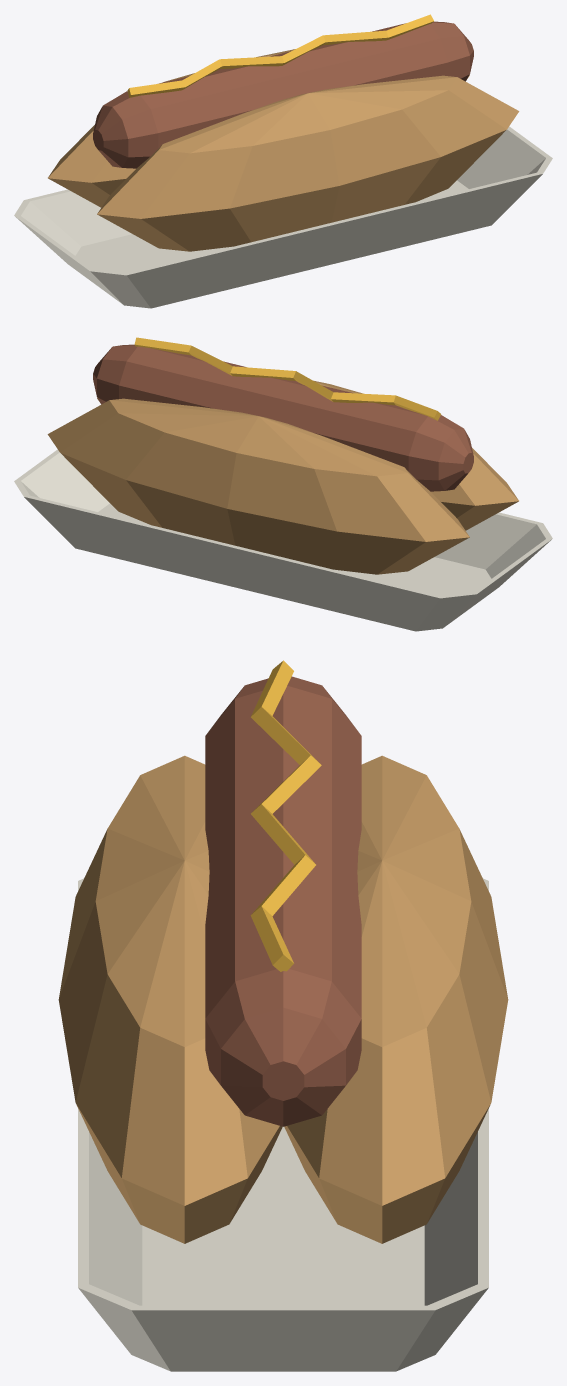
The model's file is b16_hotdog_in_paper_boat.glb.
3 renders of one model, top to bottom at view 1: azimuth 30°, elevation 25°; view 2: azimuth 150°, elevation 25°; view 3: azimuth 270°, elevation 25°, orthographic. The views are drawn at different scales.
Parts seen in each view (by area): view 1: b16_hotdog_in_paper_boat; view 2: b16_hotdog_in_paper_boat; view 3: b16_hotdog_in_paper_boat.
Boxes of the visible parts, left/top/right/bottom form: b16_hotdog_in_paper_boat: left=14, top=14, right=552, bottom=308; b16_hotdog_in_paper_boat: left=14, top=337, right=552, bottom=631; b16_hotdog_in_paper_boat: left=58, top=660, right=508, bottom=1371.
Bounding box in the file's own units: 0.195 × 0.076 × 0.082.
